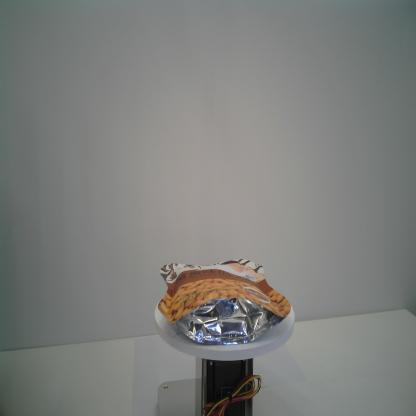Dried Fruit: (158, 258, 292, 346)
